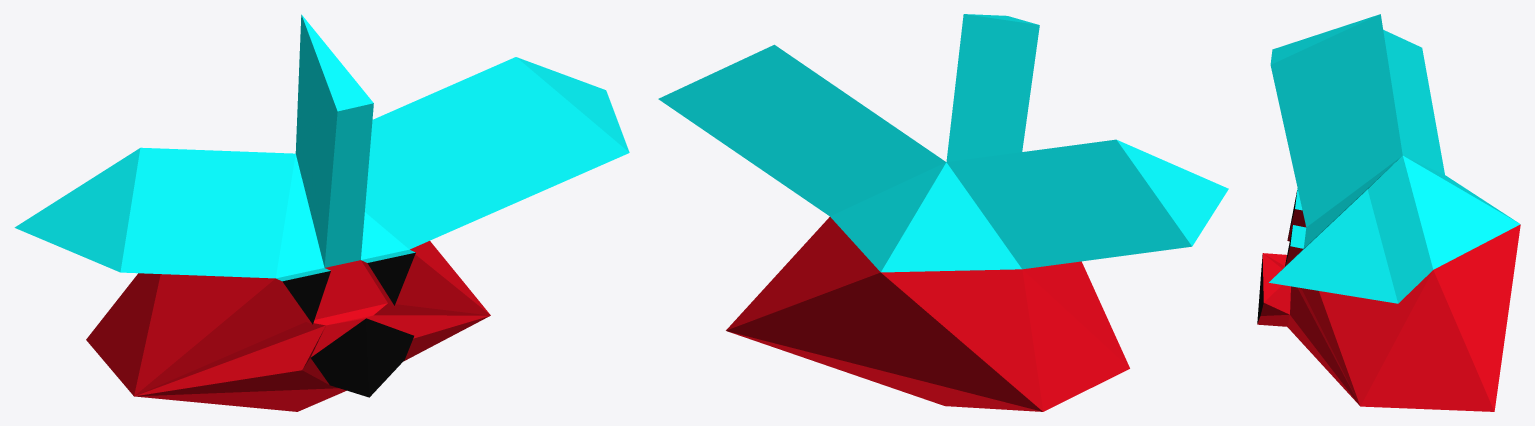
File: Aberration.fbx
3 views of the same model, side by side, from view 1: azimuth 30°, elevation 25°; view 2: azimuth 150°, elevation 25°; view 3: azimuth 270°, elevation 25° (orthographic). The views are drawn at different scales.
Visible parts, largest first — view 1: Aberration; view 2: Aberration; view 3: Aberration.
Boxes of the visible parts, x1,y1,x2,y2 form: Aberration: [14, 14, 629, 411]; Aberration: [658, 14, 1228, 411]; Aberration: [1257, 14, 1520, 411].
Bounding box in the file's own units: 1712 × 1155 × 730.
